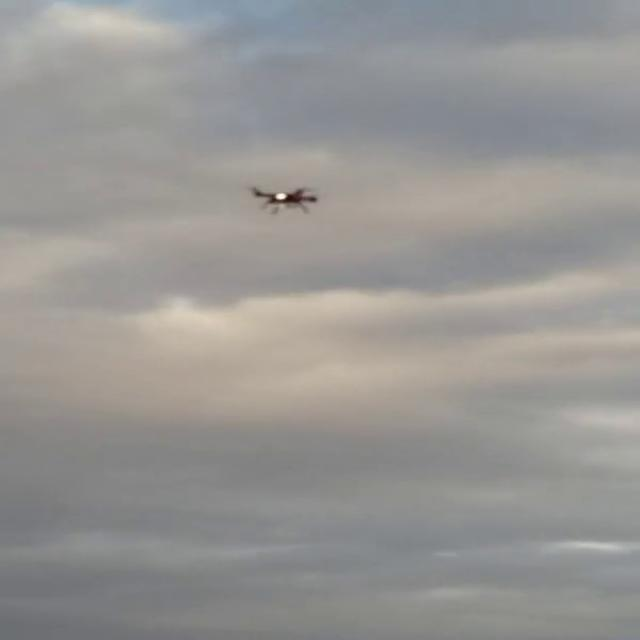drone: (244, 180, 324, 214)
